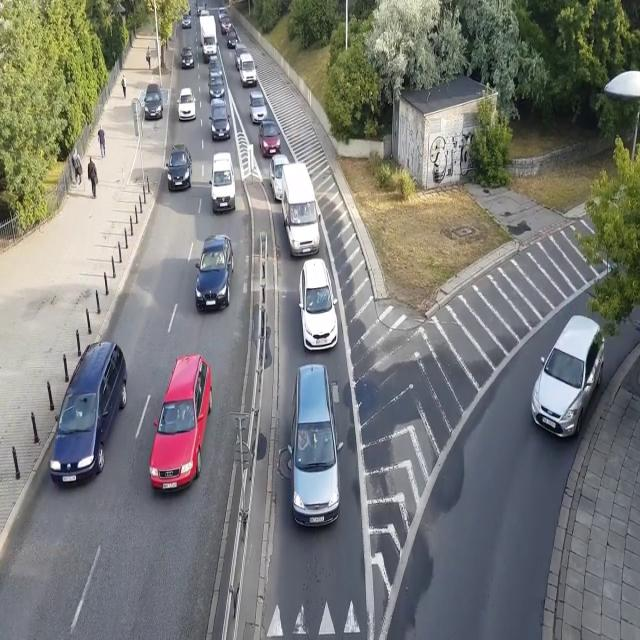car: (49, 341, 128, 488), (288, 364, 344, 531), (148, 354, 212, 498), (531, 315, 605, 439), (298, 258, 339, 354), (195, 234, 234, 314), (166, 144, 193, 192), (268, 154, 290, 202), (208, 98, 232, 140), (258, 118, 280, 158), (144, 83, 164, 120), (176, 88, 196, 121), (250, 91, 268, 124), (208, 72, 225, 101), (207, 55, 223, 80), (180, 46, 195, 69), (226, 29, 238, 49), (220, 16, 232, 36), (182, 12, 192, 29), (218, 7, 228, 23)
truck: (199, 16, 219, 64)
van: (282, 163, 322, 258), (208, 152, 236, 212), (240, 54, 258, 88), (235, 43, 248, 71)
